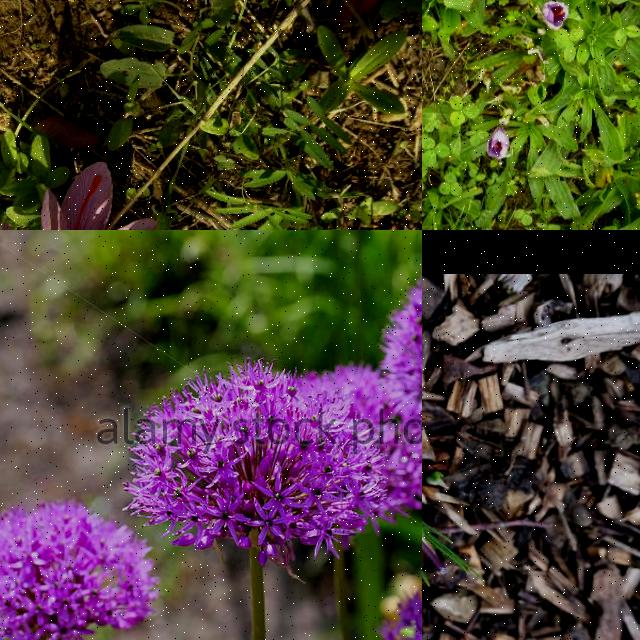flower: (0, 162, 160, 230), (486, 126, 514, 160), (542, 0, 570, 32)
